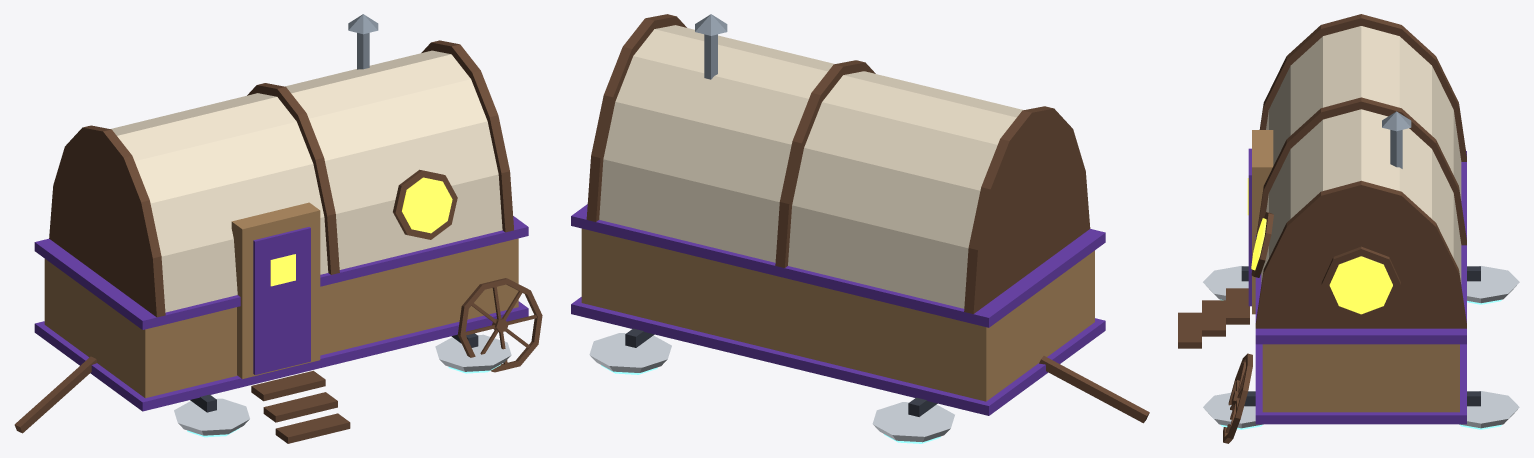
Rendered from Bldg_Home_HoverWagon.fbx.
The picture shows the model from 3 angles, left to right: view 1: azimuth 30°, elevation 25°; view 2: azimuth 150°, elevation 25°; view 3: azimuth 270°, elevation 25°; orthographic projection. The views are drawn at different scales.
Visible parts, largest first — view 1: Bldg_Home_HoverWagon_Body, Bldg_Home_HoverWagon_Door; view 2: Bldg_Home_HoverWagon_Body; view 3: Bldg_Home_HoverWagon_Body, Bldg_Home_HoverWagon_Door.
Boxes of the visible parts, x1,y1,x2,y2 form: Bldg_Home_HoverWagon_Body: [14, 14, 542, 443]; Bldg_Home_HoverWagon_Door: [253, 227, 310, 374]; Bldg_Home_HoverWagon_Body: [571, 14, 1149, 443]; Bldg_Home_HoverWagon_Body: [1178, 14, 1519, 443]; Bldg_Home_HoverWagon_Door: [1247, 148, 1251, 306].
Bounding box in the file's own units: 7.59 × 4.71 × 4.85.
